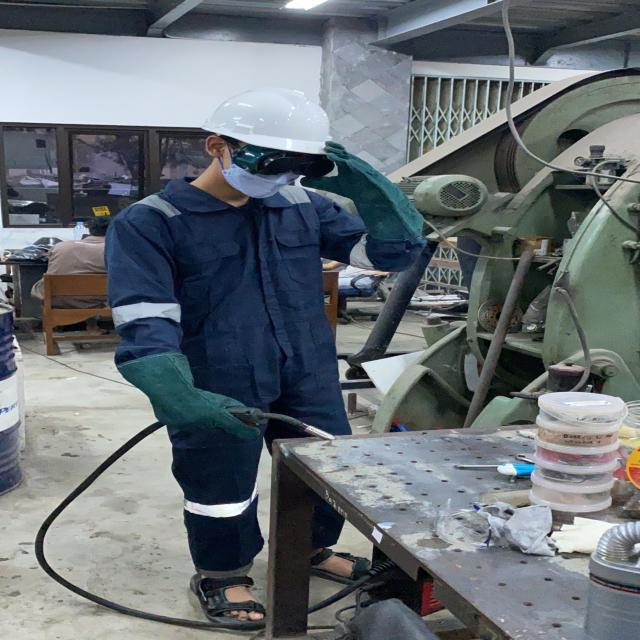glasses: (222, 142, 342, 180)
